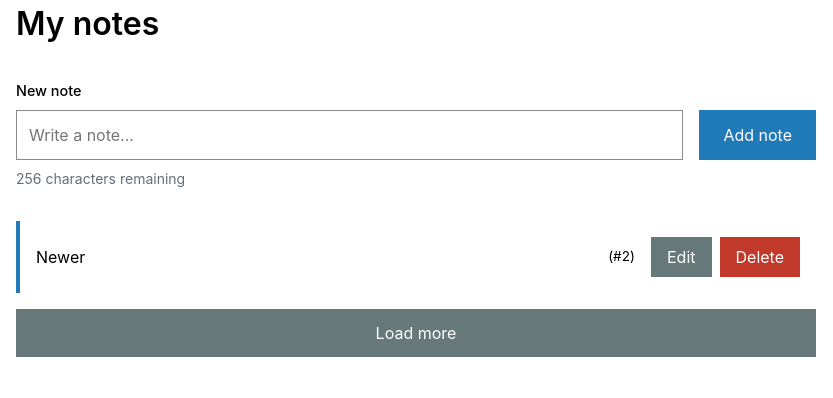
it: NotesPage › Load more › adds the last page below, then goes away, handing focus to the first new note
Step 1. Click the button "Load more" → (416, 333), box [16, 309, 816, 357]
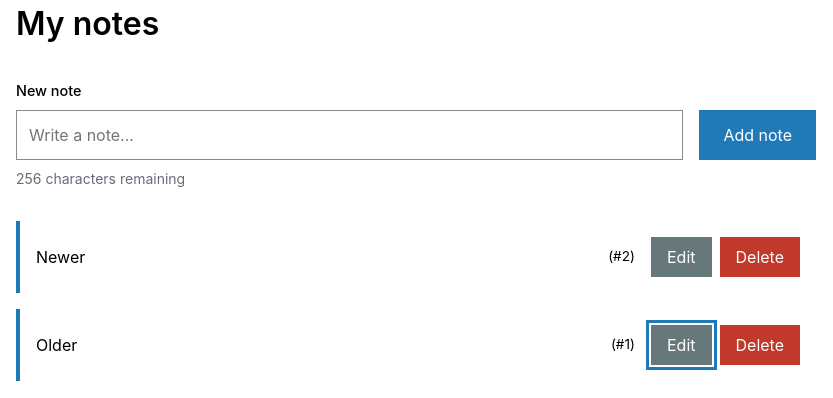
Now the text "Older" is shown, box [36, 335, 77, 355]
Now the button "Load more" is gone
